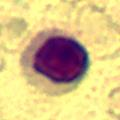lymphocyte: (19, 28, 89, 94)
